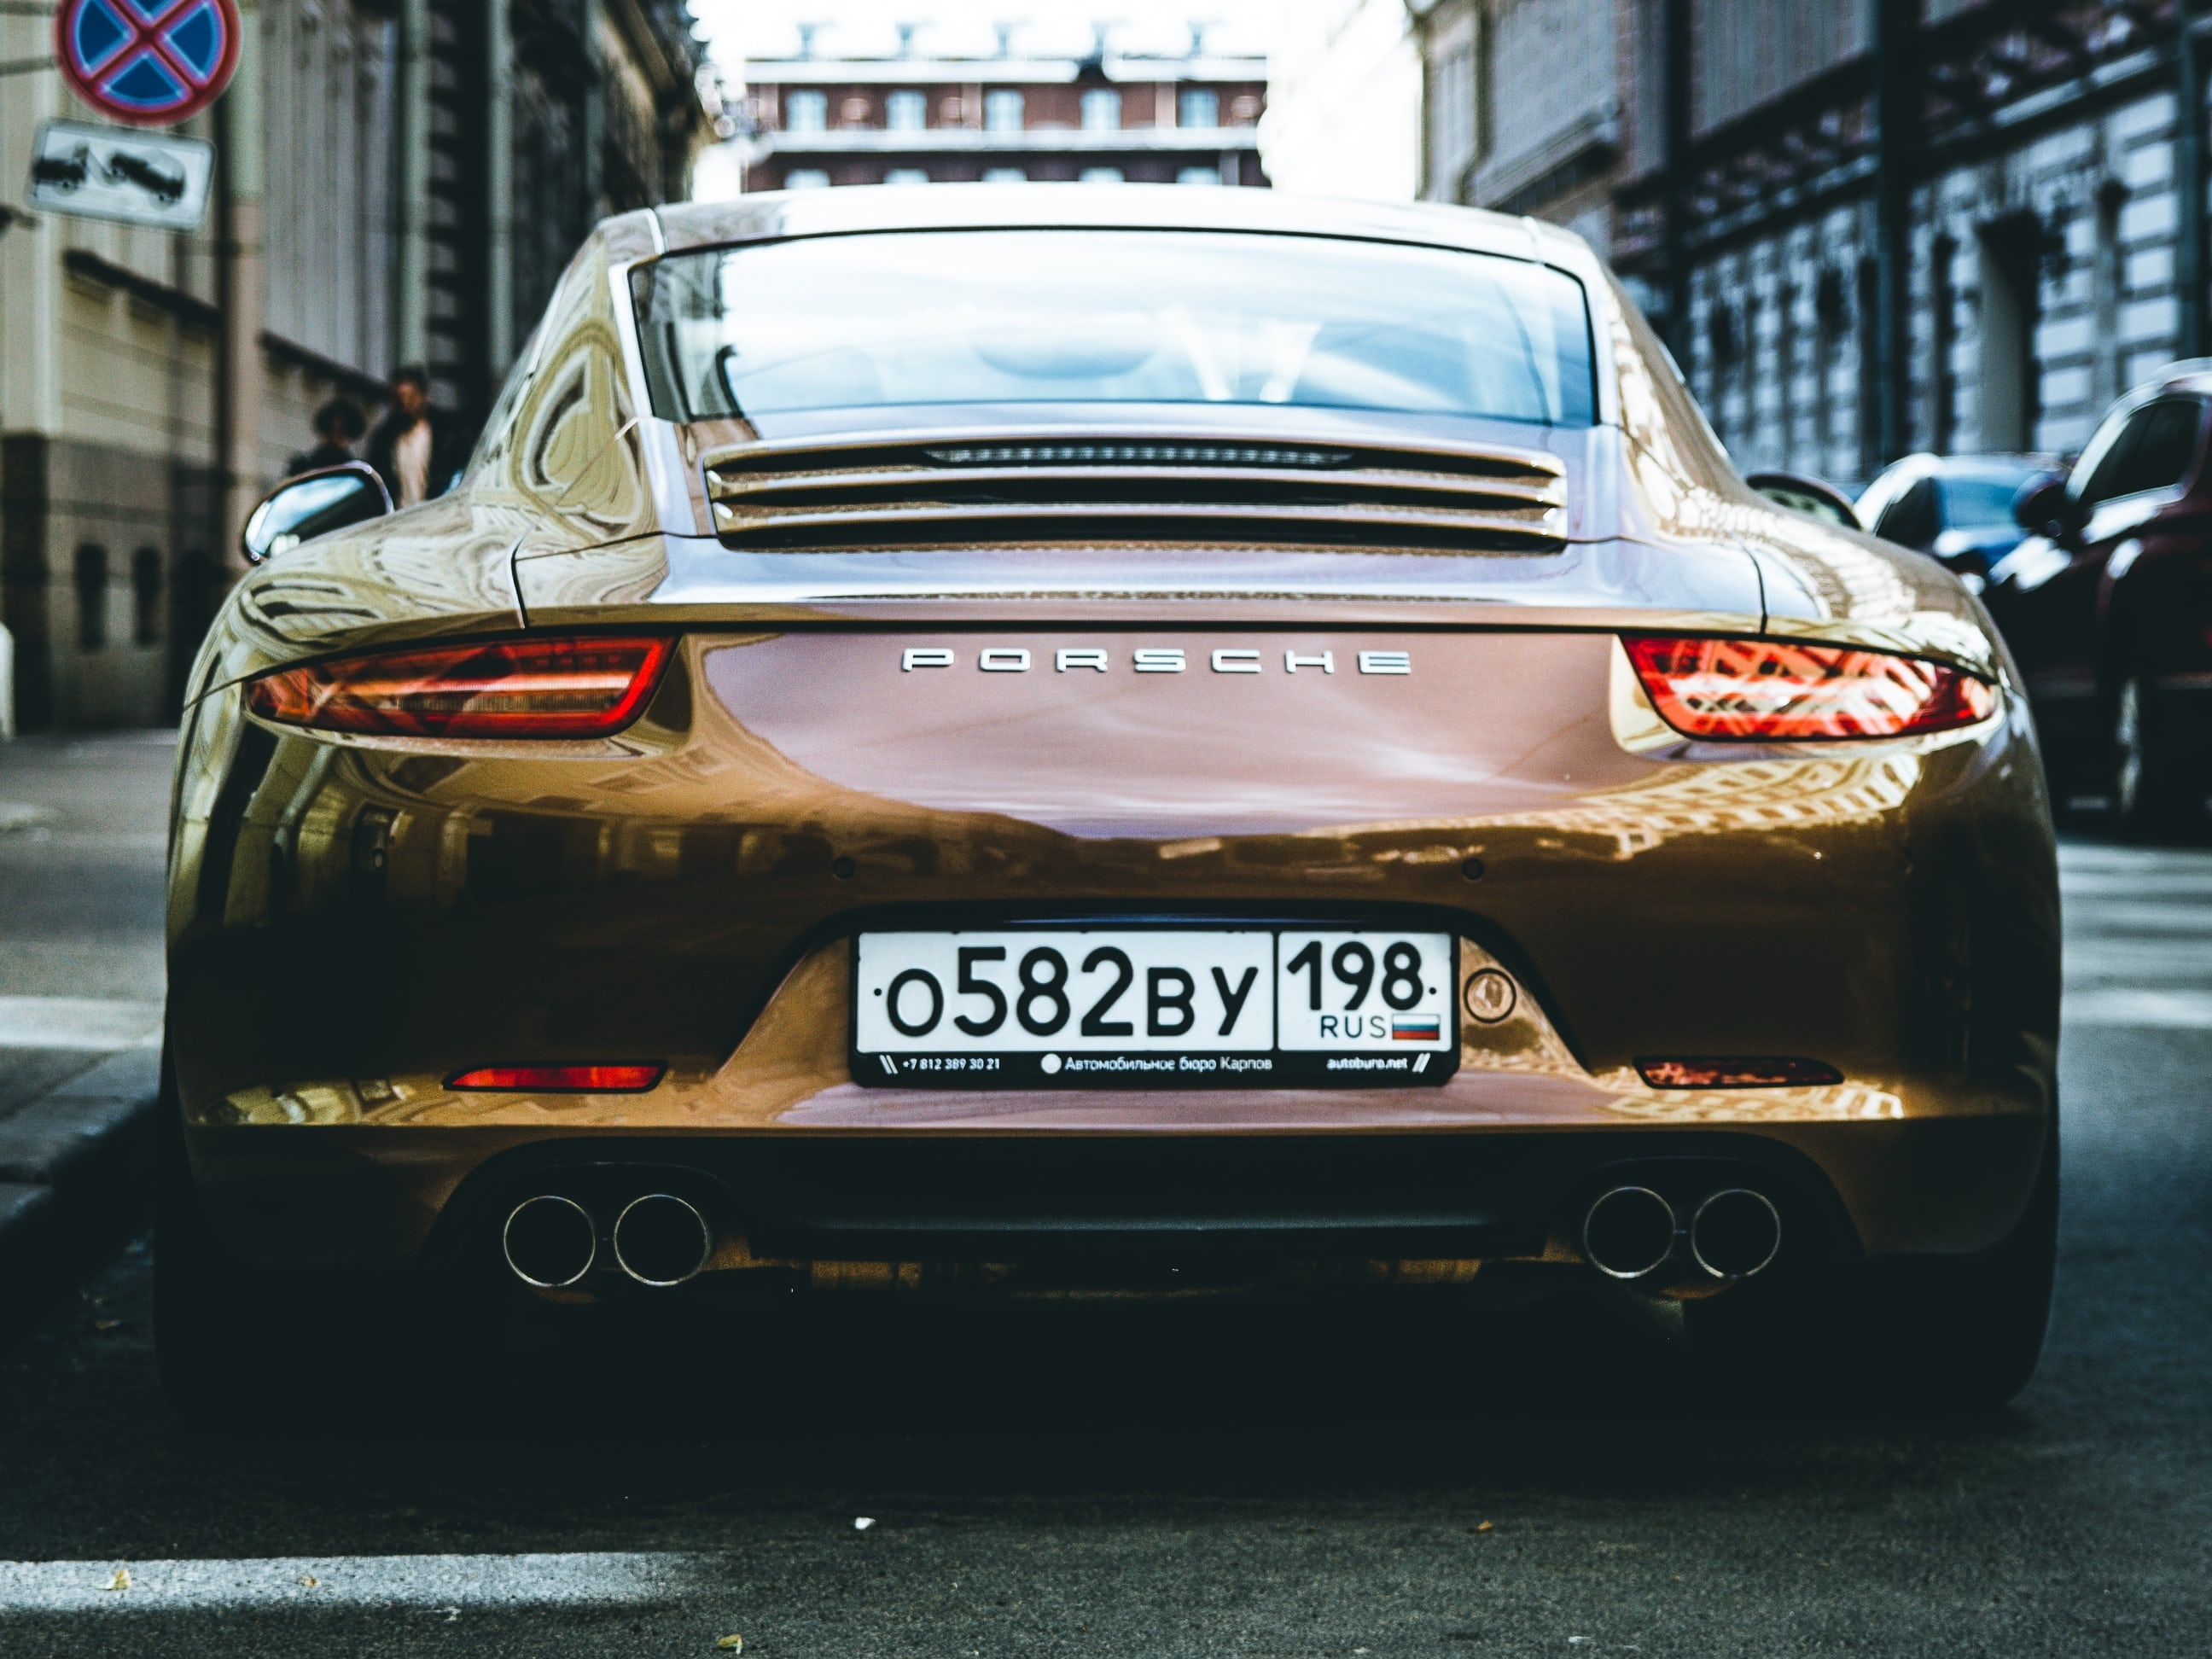plaka: (847, 921, 1462, 1062)
